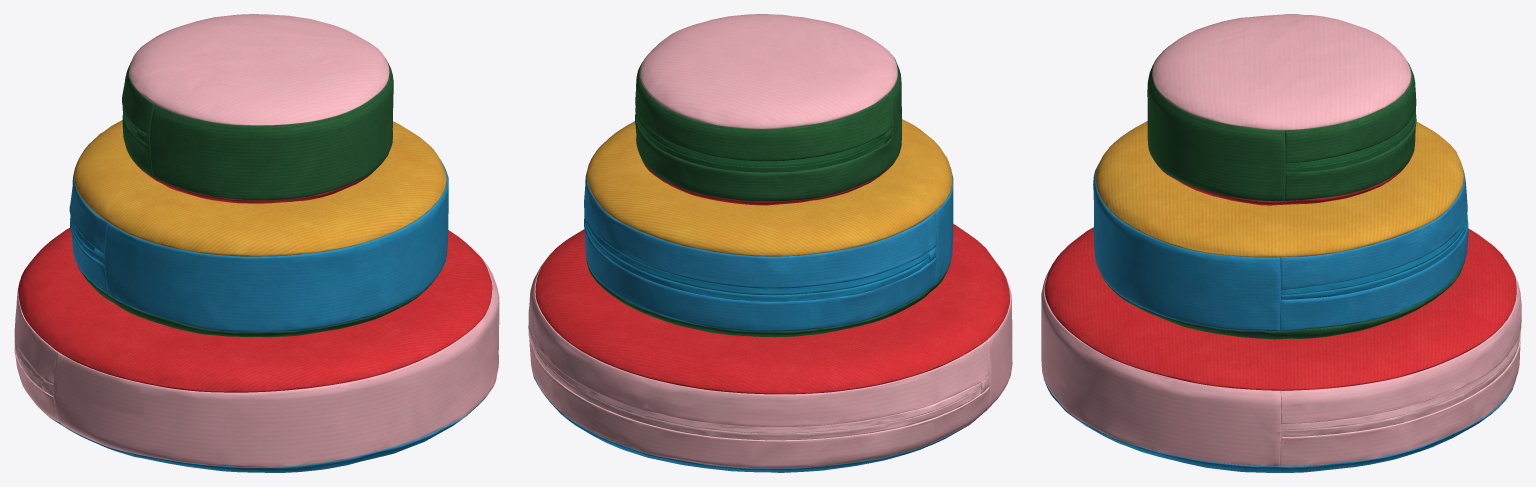
The model's file is grejsimojs_poduszka_podogowa_3_szt_90602011.glb.
The picture shows the model from 3 angles, left to right: view 1: azimuth 30°, elevation 25°; view 2: azimuth 150°, elevation 25°; view 3: azimuth 270°, elevation 25°; orthographic projection.
Visible parts, largest first — view 1: grejsimojs_poduszka_podogowa_3_szt_90602011; view 2: grejsimojs_poduszka_podogowa_3_szt_90602011; view 3: grejsimojs_poduszka_podogowa_3_szt_90602011.
Boxes of the visible parts, x1,y1,x2,y2 form: grejsimojs_poduszka_podogowa_3_szt_90602011: [14, 14, 499, 472]; grejsimojs_poduszka_podogowa_3_szt_90602011: [528, 14, 1012, 472]; grejsimojs_poduszka_podogowa_3_szt_90602011: [1041, 14, 1521, 472].
Bounding box in the file's own units: 0.5998 × 0.447 × 0.5861.
Materials: 3 (3 with a texture image).
